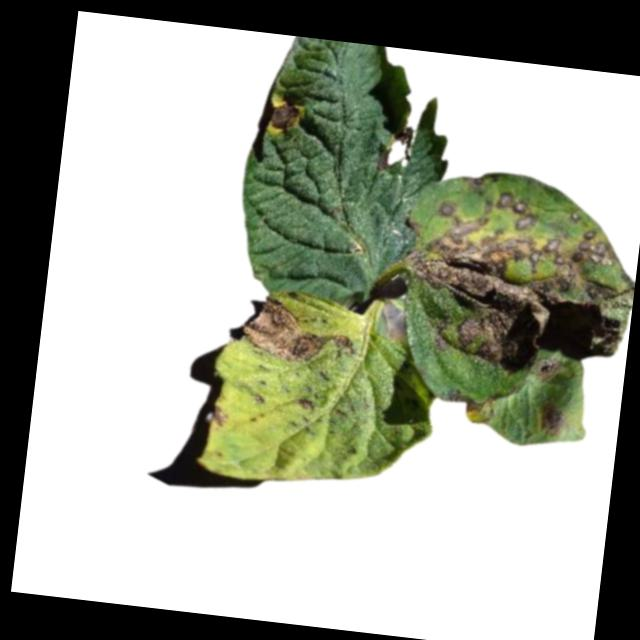Early_blight: (396, 182, 640, 383), (238, 295, 361, 371), (377, 121, 413, 176), (446, 389, 497, 423), (268, 97, 303, 137), (537, 404, 568, 435), (533, 355, 564, 385), (210, 407, 228, 428), (295, 395, 313, 413)
